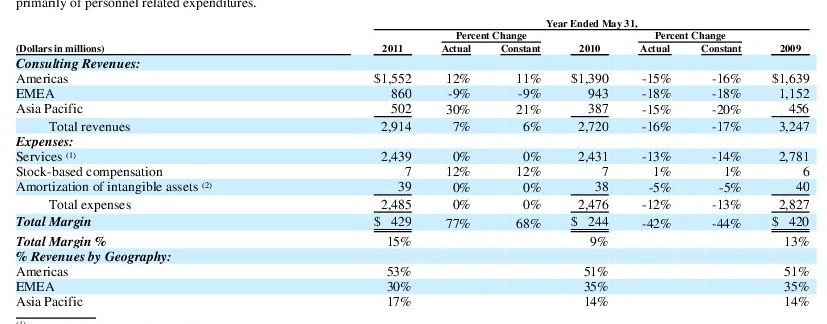table: (0, 0, 827, 324)
